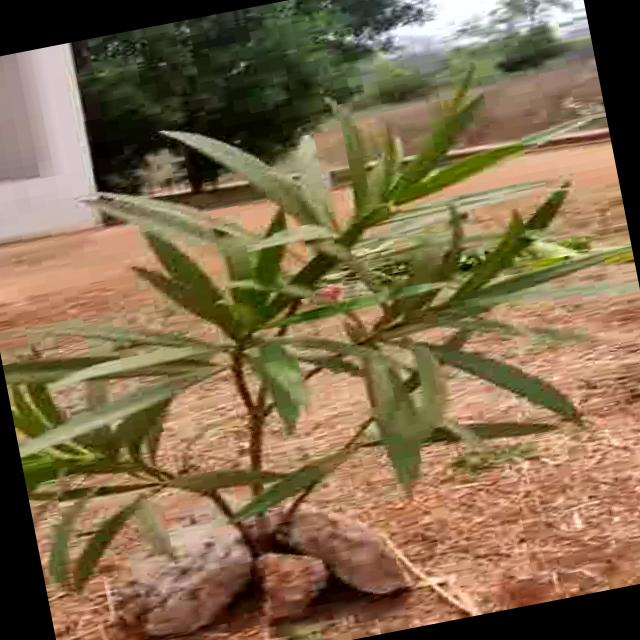Oleander: (6, 48, 616, 574)
